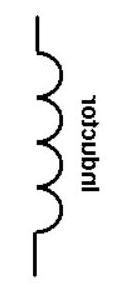inductor: (21, 39, 67, 246)
